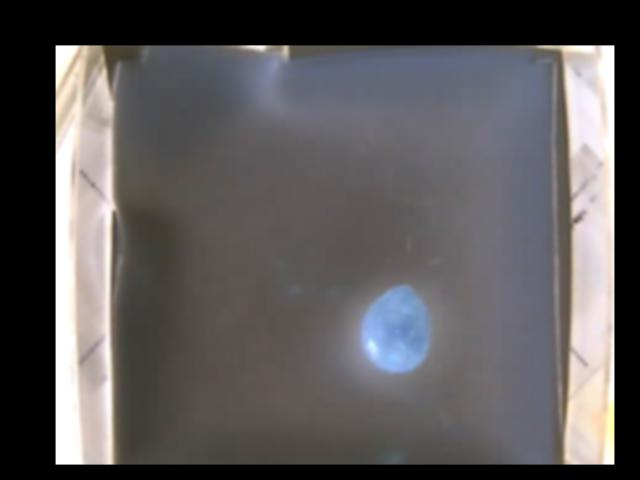Potato: (361, 286, 432, 373)
